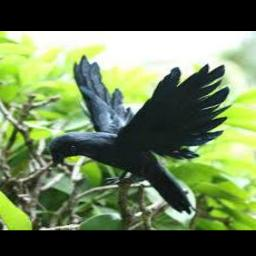Crow: (49, 54, 230, 215)
